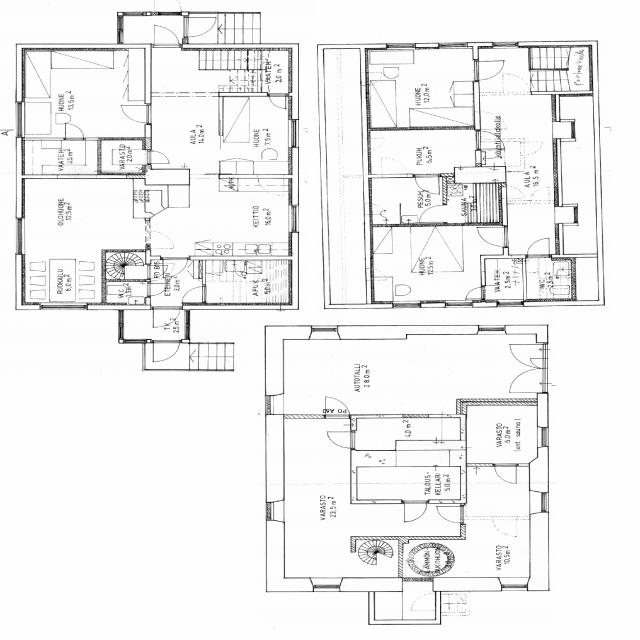door: (502, 344, 548, 368), (502, 369, 548, 393), (183, 17, 218, 38), (473, 60, 508, 81), (153, 303, 180, 329), (153, 24, 180, 48), (153, 339, 180, 362), (324, 396, 350, 418), (162, 256, 188, 278), (414, 173, 440, 195), (476, 228, 507, 246), (527, 237, 551, 259), (120, 106, 151, 123), (402, 500, 427, 521), (437, 506, 467, 523), (326, 431, 356, 448), (419, 205, 448, 222), (494, 464, 518, 484), (179, 286, 206, 302), (473, 133, 500, 148), (145, 150, 171, 164), (64, 123, 84, 141), (145, 282, 170, 296), (268, 93, 287, 110), (460, 286, 484, 299), (145, 266, 169, 278)
